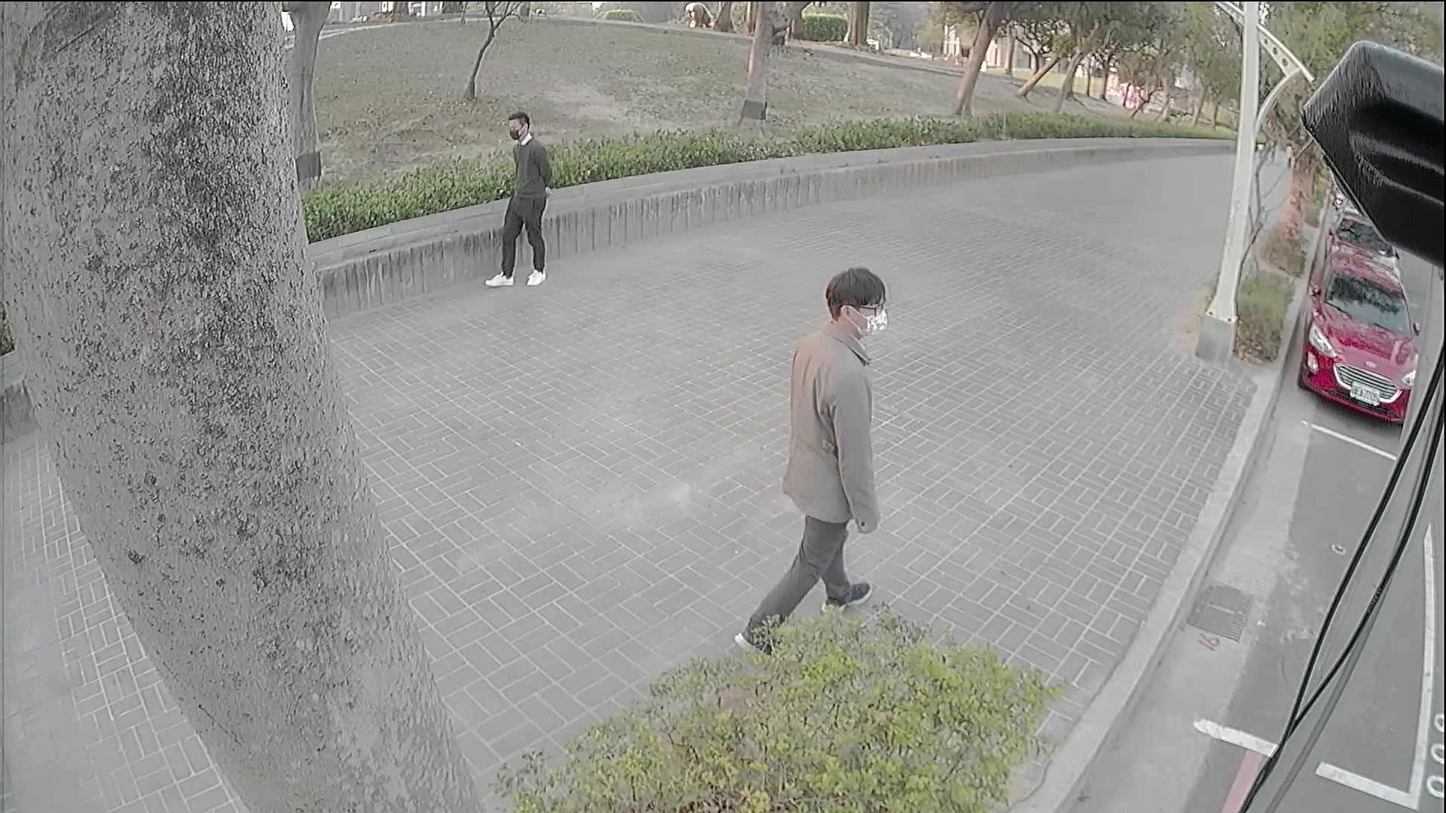person: (731, 267, 888, 652), (493, 115, 556, 286)
